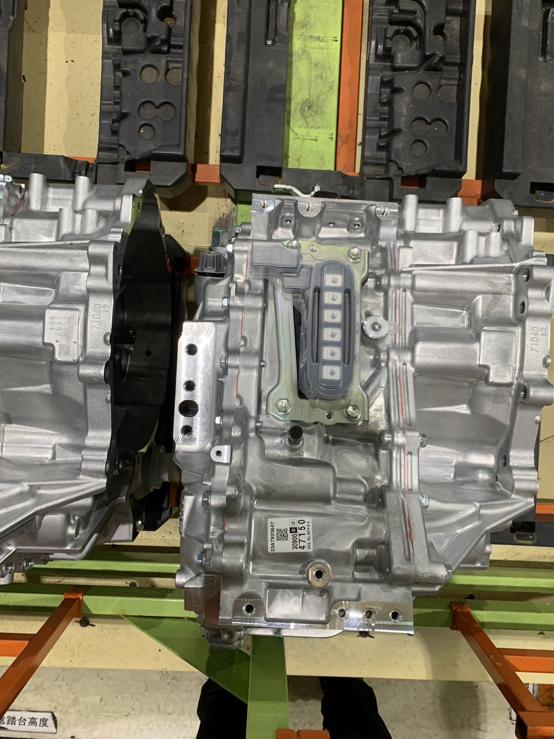gearbox_type3: (169, 182, 553, 633)
gearbox_type3_FP1: (305, 258, 357, 401)
gearbox_type3_FP2: (304, 556, 334, 589)
gearbox_type3_FP3: (174, 318, 213, 449)
